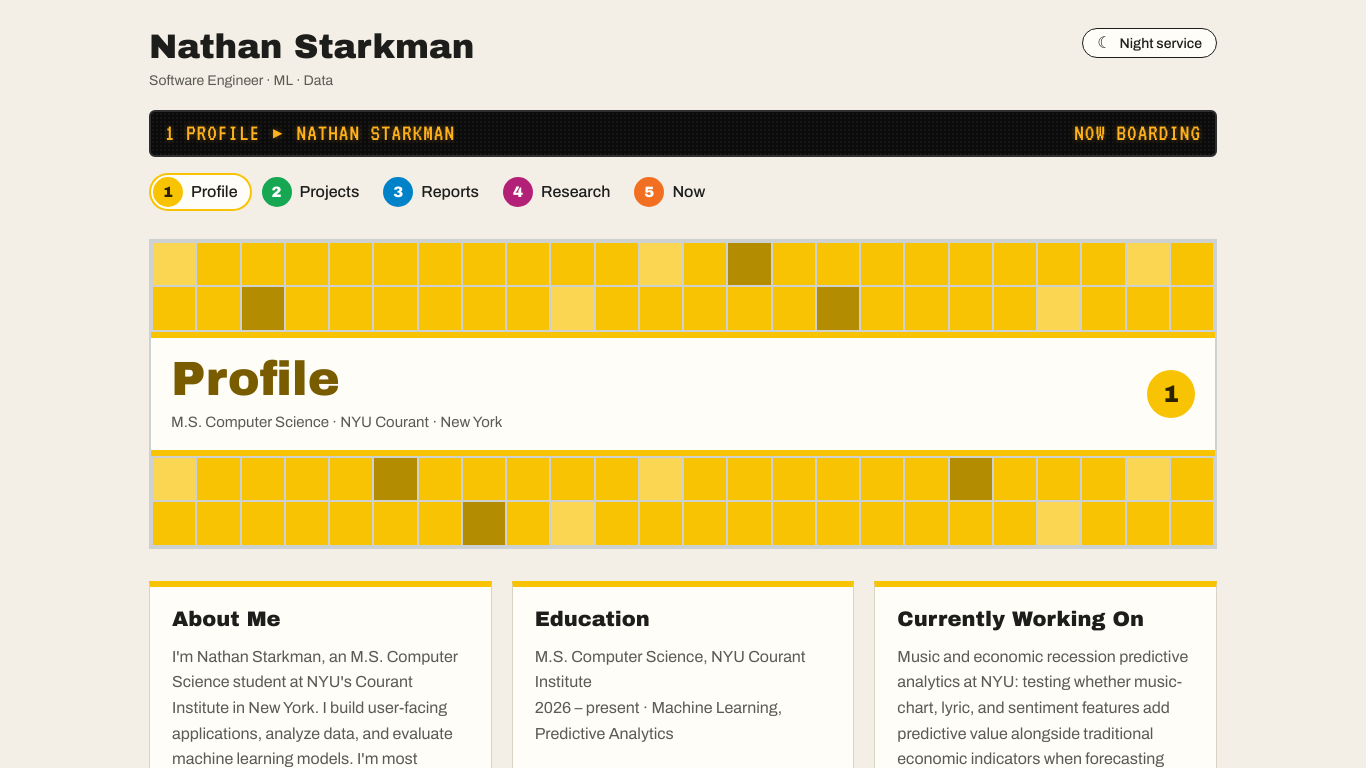
Test: theme toggle switches between day and night service
Click the button with aria-label "switch to dark mode": (1150, 43) x1=1082 y1=28 x2=1217 y2=58
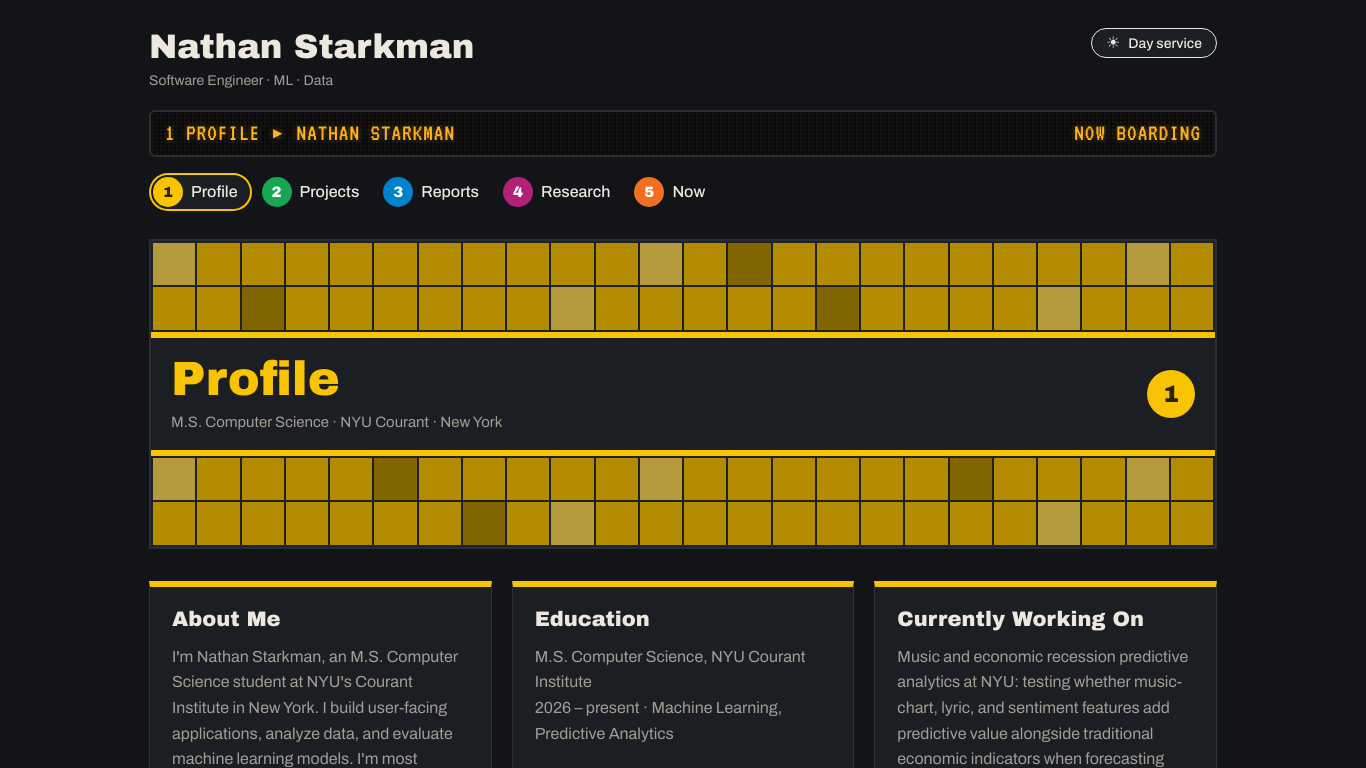
Check: the button with aria-label "switch to light mode" is shown, box x1=1091 y1=28 x2=1217 y2=58
